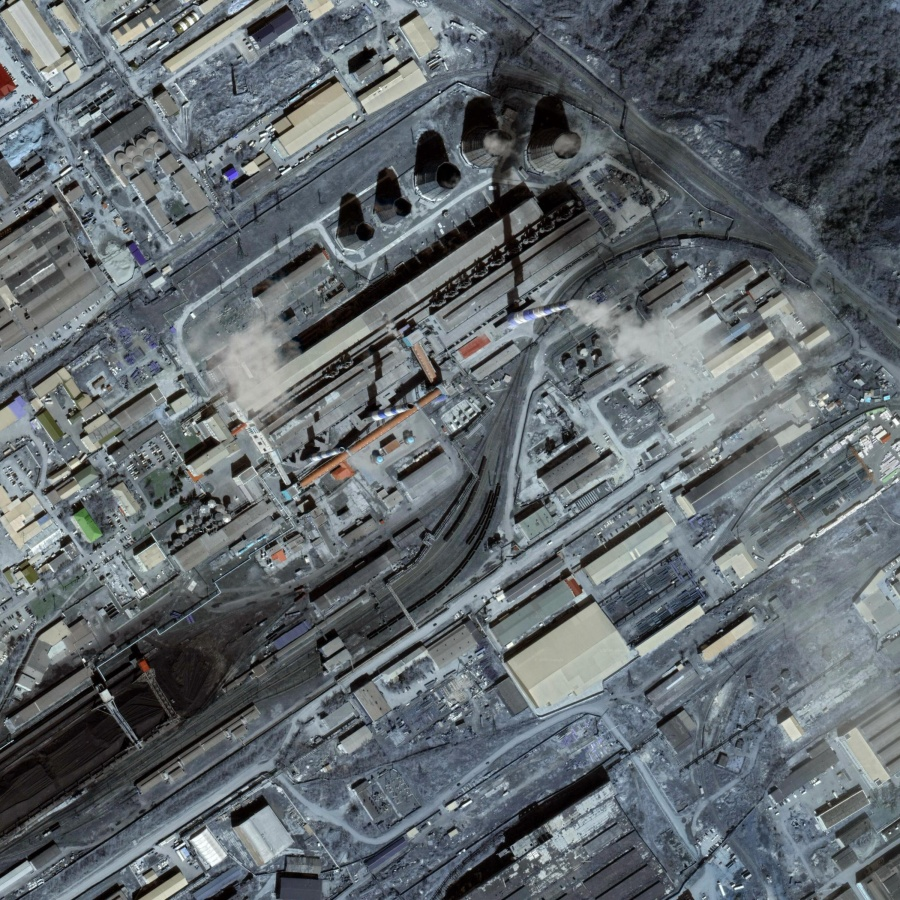PowerPlant: (238, 73, 685, 443)
